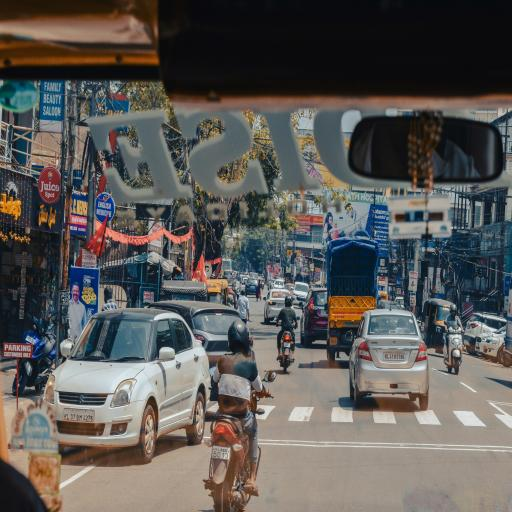Mini truck: (322, 237, 378, 366)
auto: (421, 299, 453, 349), (207, 279, 229, 305)
bike: (203, 414, 261, 512), (443, 319, 463, 375), (278, 331, 293, 374), (248, 386, 264, 413)
car: (43, 309, 209, 462), (349, 310, 429, 409), (151, 301, 240, 367), (300, 289, 328, 347), (264, 289, 291, 324)
